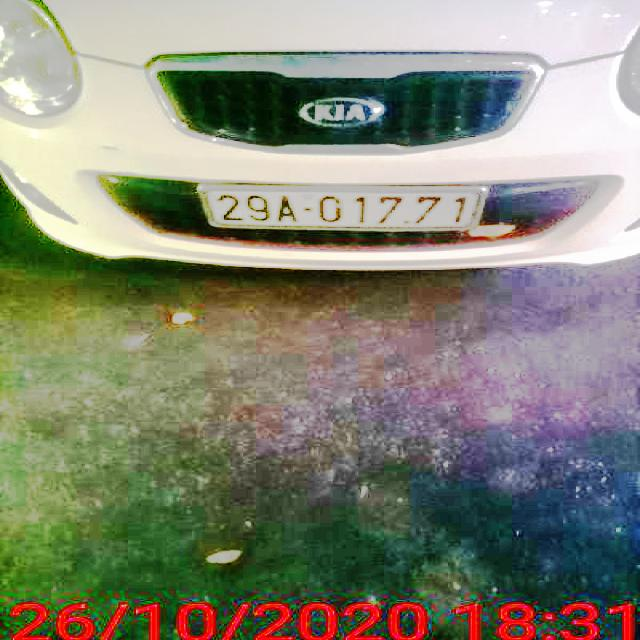license_plate: (204, 191, 479, 229)
